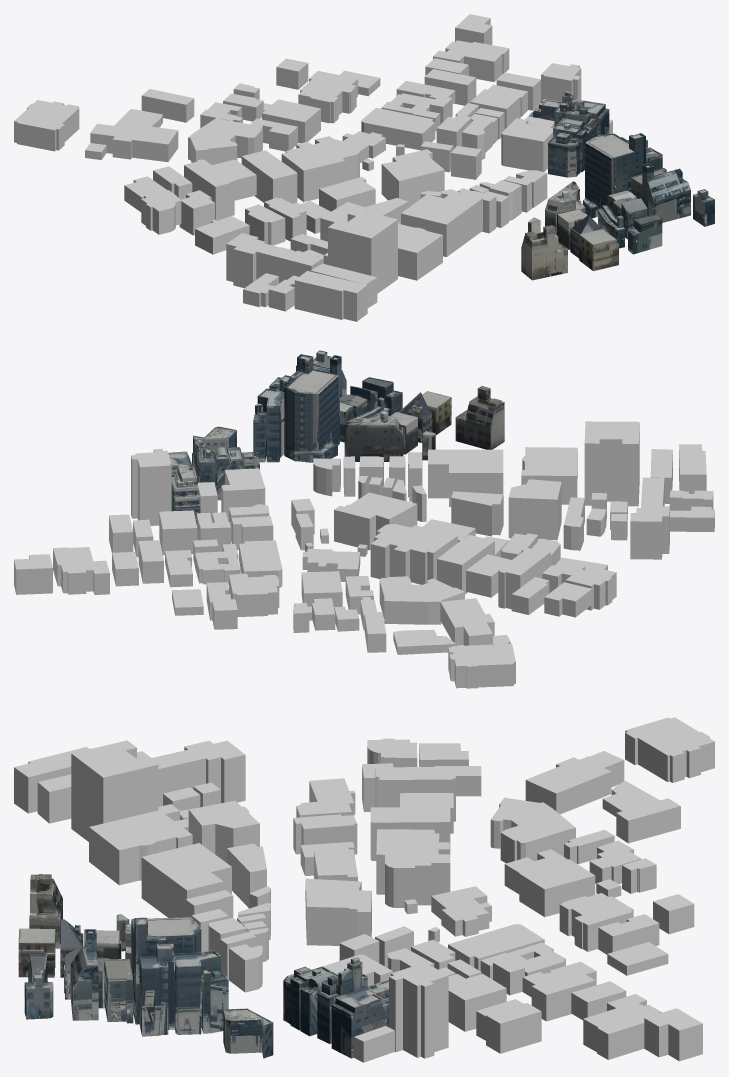
File: data523.glb
3 renders of one model, top to bottom at view 1: azimuth 30°, elevation 25°; view 2: azimuth 150°, elevation 25°; view 3: azimuth 270°, elevation 25°, orthographic. The views are drawn at different scales.
Size of the model in its own units: 193 by 31.82 by 194.
Materials: 2 (1 with a texture image).
